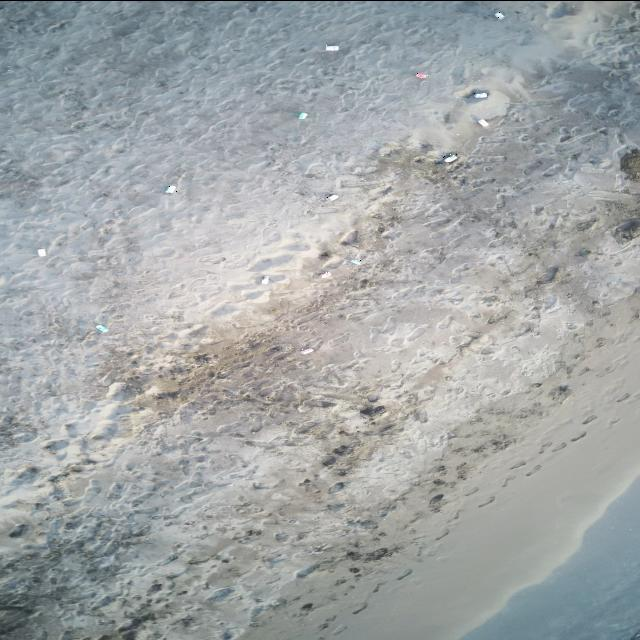Garbage: (612, 216, 639, 243), (620, 148, 639, 179), (535, 267, 557, 283), (340, 228, 356, 243), (440, 151, 456, 163), (468, 89, 487, 99), (415, 71, 427, 79), (96, 324, 108, 332), (164, 184, 176, 192), (324, 44, 337, 51), (493, 11, 504, 19), (300, 347, 313, 353), (477, 119, 486, 127), (327, 193, 337, 200), (320, 272, 331, 278), (351, 258, 362, 264), (37, 248, 44, 256), (260, 275, 267, 283), (299, 112, 307, 119)
